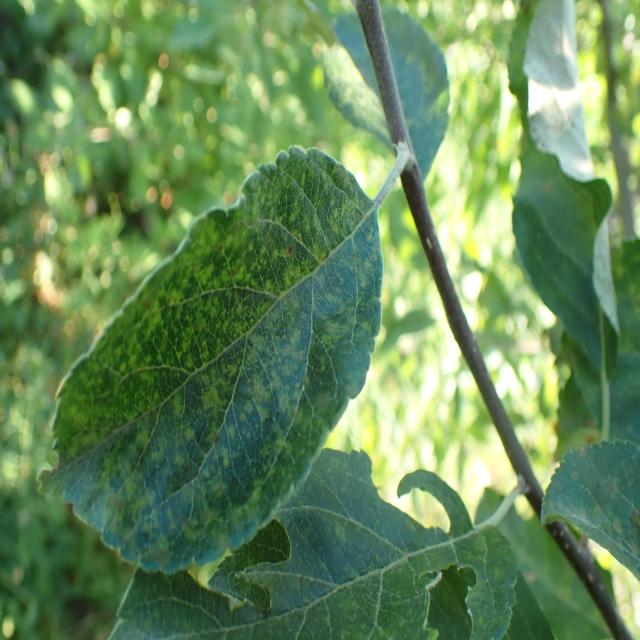scab: (83, 235, 361, 486), (519, 0, 618, 377), (552, 436, 640, 566)
